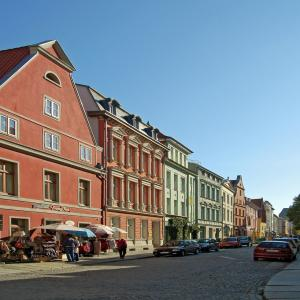Vehicle-registration-plate: (266, 250, 279, 253), (160, 253, 170, 255)
